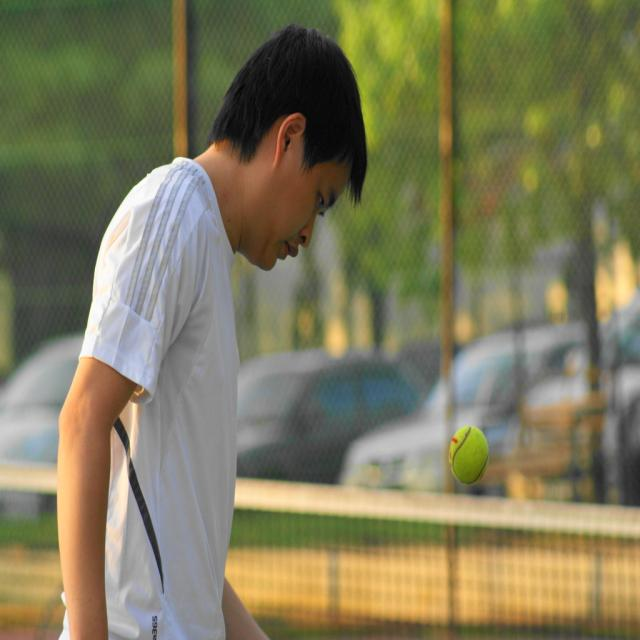Tennis ball: (449, 421, 488, 486)
